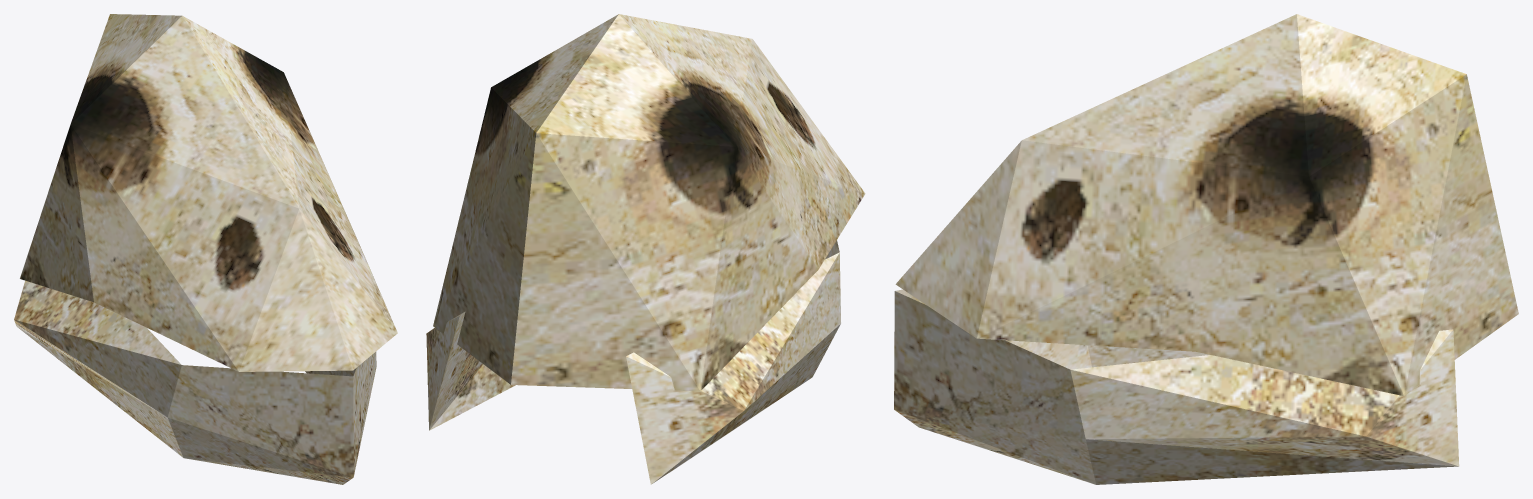
The model's file is poi_tato_skel_grtr_krayt_head_s01_l4.fbx.
3 renders of one model, left to right at view 1: azimuth 30°, elevation 25°; view 2: azimuth 150°, elevation 25°; view 3: azimuth 270°, elevation 25°, orthographic. The views are drawn at different scales.
Parts seen in each view (by area): view 1: mesh_node; view 2: mesh_node; view 3: mesh_node.
Boxes of the visible parts, x1,y1,x2,y2 form: mesh_node: (14, 14, 397, 484); mesh_node: (426, 14, 865, 484); mesh_node: (894, 14, 1518, 484).
Size of the model in its own units: 1.24 by 1.54 by 2.06.
